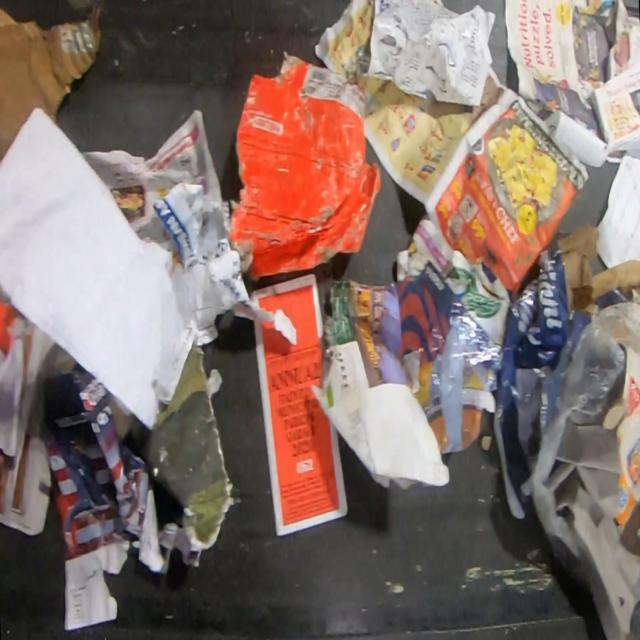cardboard: (492, 220, 639, 522), (225, 49, 383, 284), (0, 0, 103, 161), (602, 343, 640, 526)
soft_plastic: (528, 317, 626, 595), (418, 296, 503, 454)
